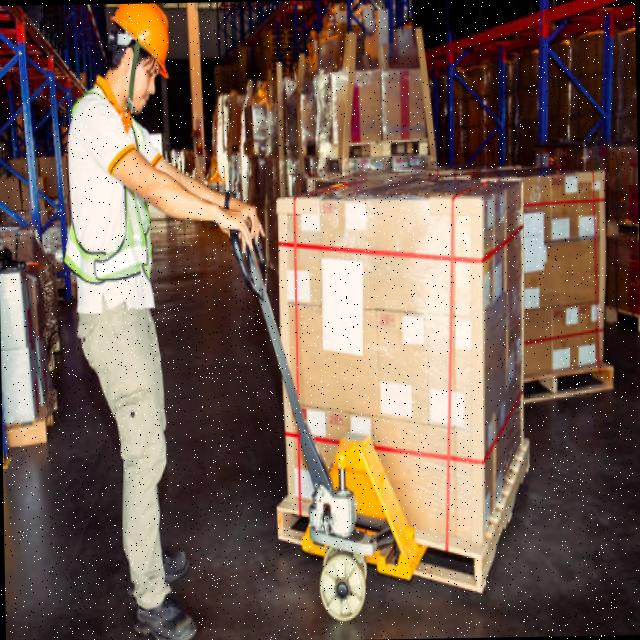Wooden-Pallets: (413, 428, 532, 599), (525, 364, 617, 411)
